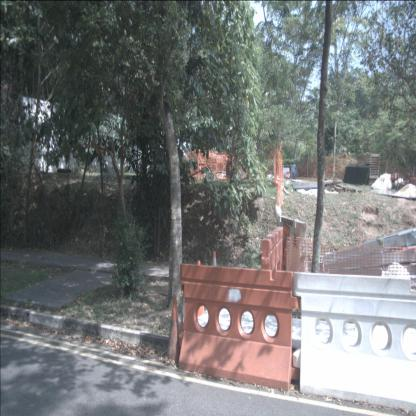barrier: (292, 272, 416, 414), (179, 263, 300, 392), (277, 215, 309, 286), (261, 226, 285, 294)
cone: (166, 294, 182, 365), (192, 260, 206, 315), (208, 251, 221, 302)
